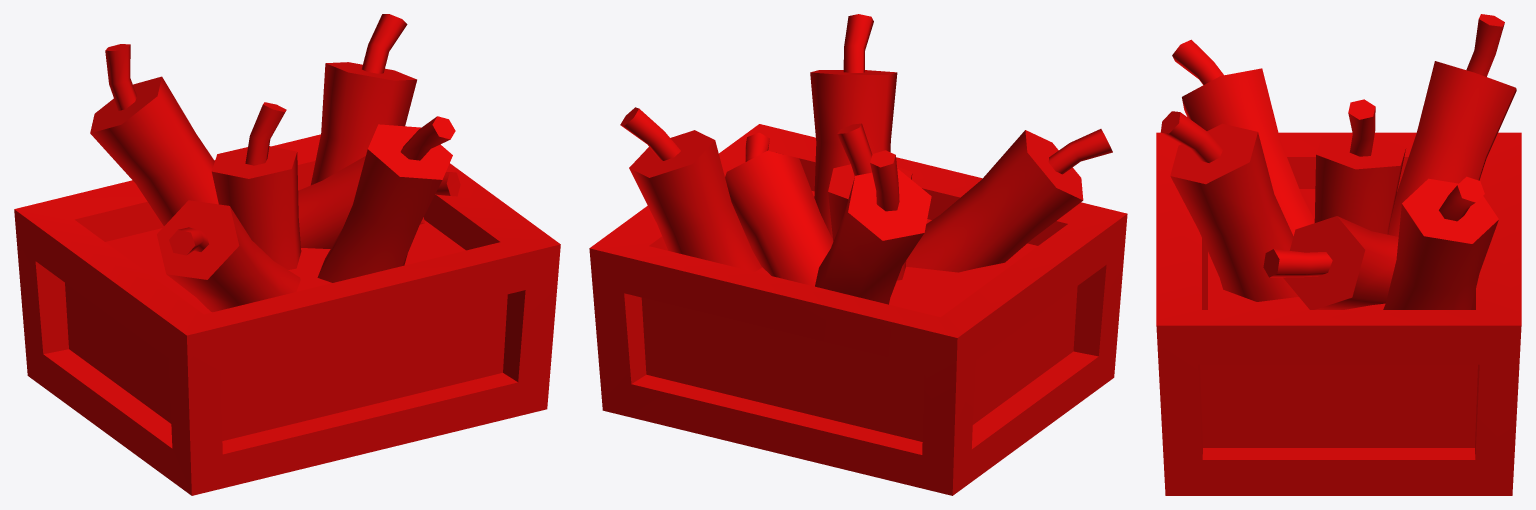
Rendered from TNT.fbx.
The picture shows the model from 3 angles, left to right: view 1: azimuth 30°, elevation 25°; view 2: azimuth 150°, elevation 25°; view 3: azimuth 270°, elevation 25°; orthographic projection. The views are drawn at different scales.
Parts seen in each view (by area): view 1: TNT; view 2: TNT; view 3: TNT.
Part boxes in pixels (x1,y1,x2,y2): TNT: (14, 14, 560, 495); TNT: (589, 14, 1127, 495); TNT: (1156, 14, 1521, 495).
Size of the model in its own units: 1.06 by 0.8643 by 0.8481.
